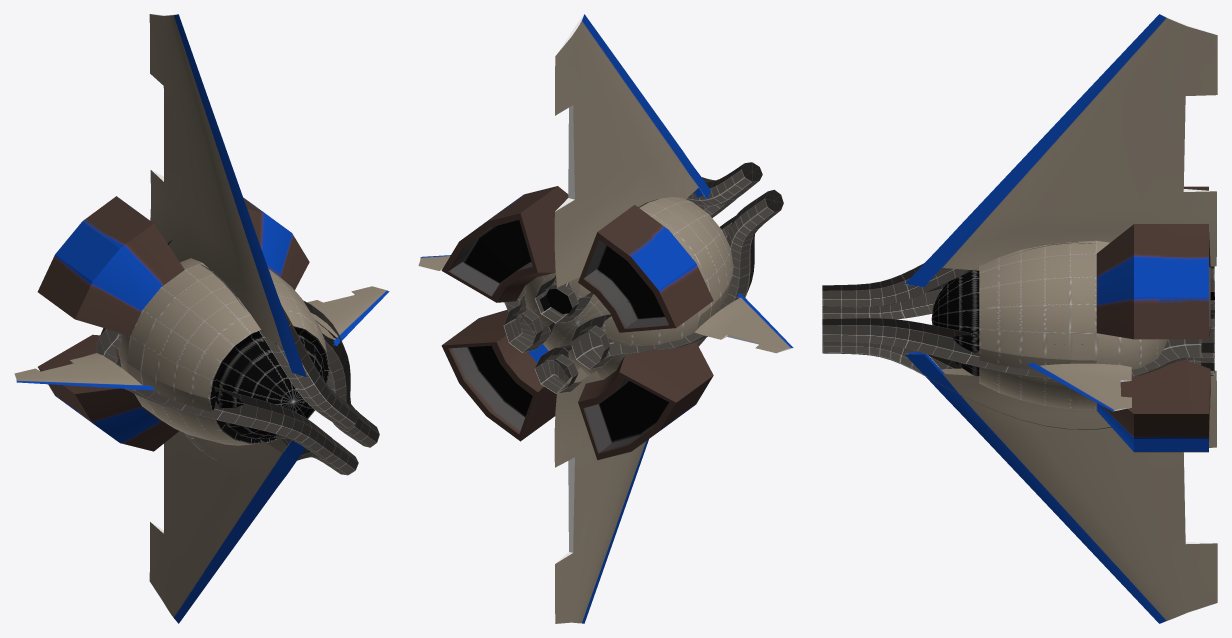
Rendered from heavy_ship_blue_swap.fbx.
3 views of the same model, side by side, from view 1: azimuth 30°, elevation 25°; view 2: azimuth 150°, elevation 25°; view 3: azimuth 270°, elevation 25° (orthographic).
Parts seen in each view (by area): view 1: heavy_ship; view 2: heavy_ship; view 3: heavy_ship.
Boxes of the visible parts, box(x1,y1,x2,y2) form: heavy_ship: box(14, 14, 389, 623); heavy_ship: box(418, 14, 793, 623); heavy_ship: box(822, 14, 1217, 623).
Size of the model in its own units: 11.88 by 18.56 by 10.91.
2 materials, 1 textured.
